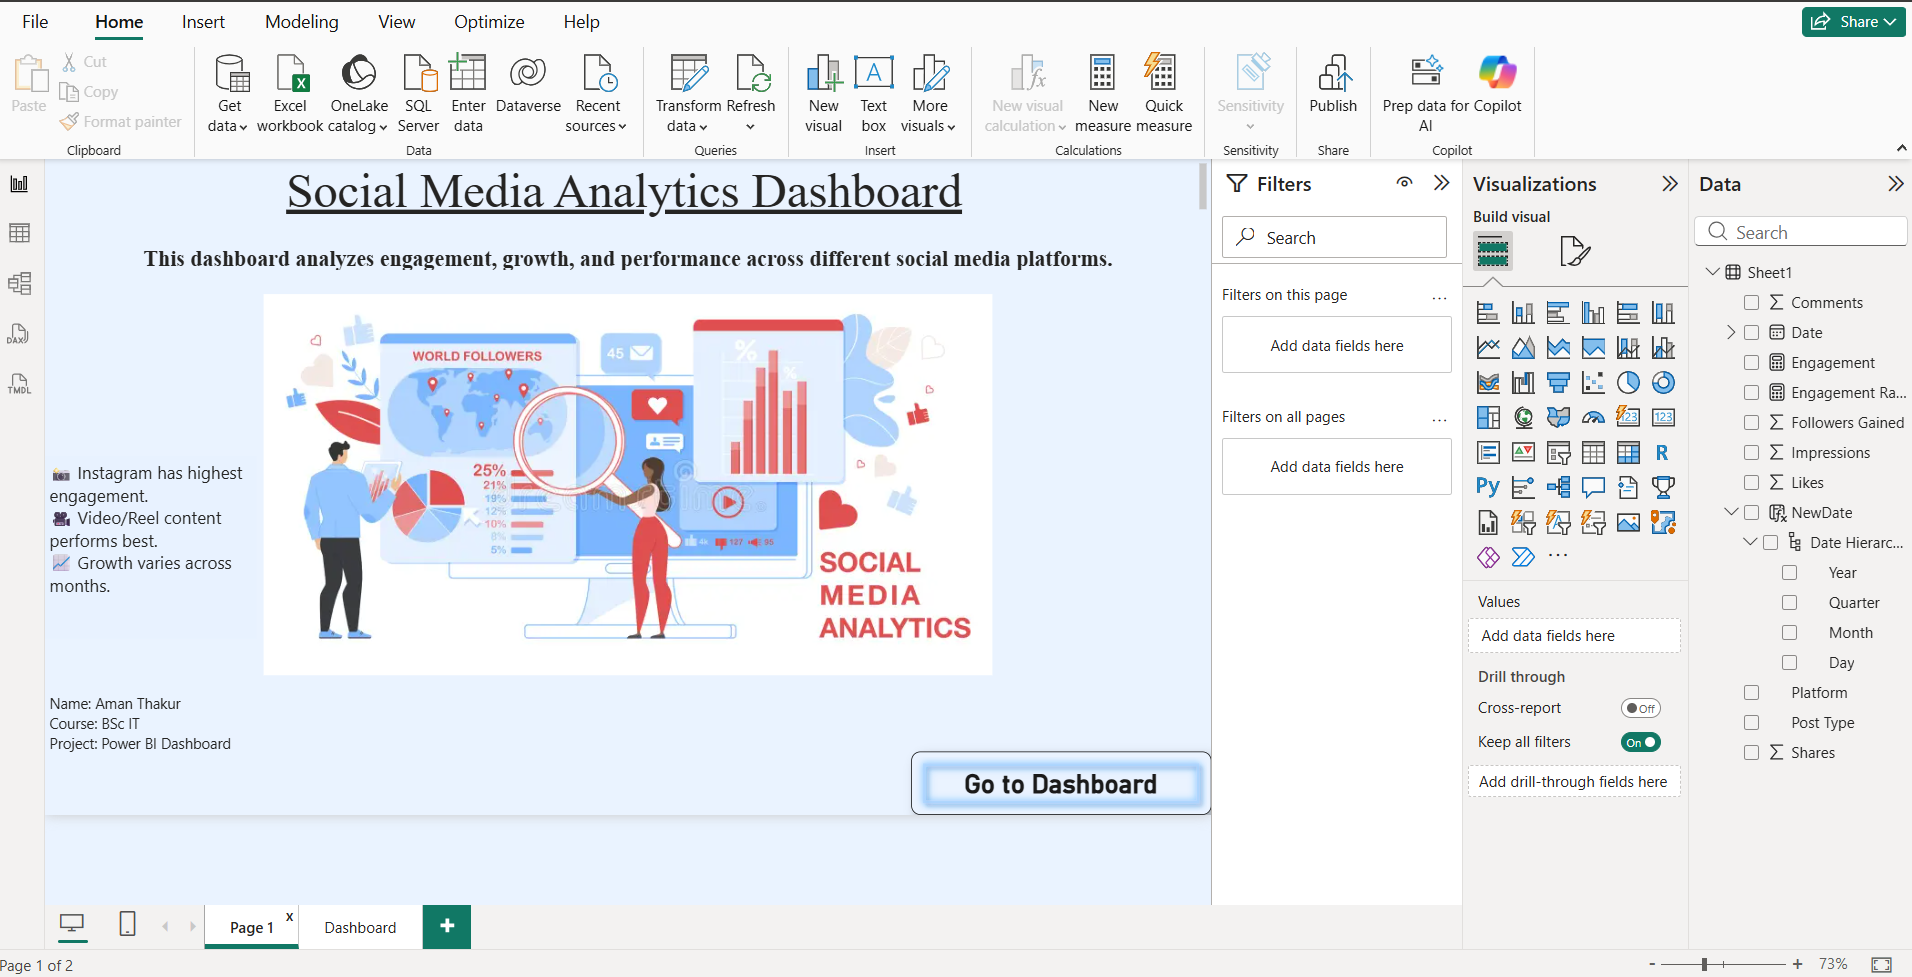

This screenshot's page, from the dashboard's own definition file:
{"tool":"powerbi","page":{"name":"Page 1","canvas":[1280,720],"ordinal":0},"visuals":[{"type":"textbox","box":[0,0,1280.3,72.7],"z":0},{"type":"textbox","box":[0,90.6,1280.3,53.5],"z":1000},{"type":"textbox","box":[0,581.8,231.9,138.6],"z":2000},{"type":"actionButton","box":[950.9,650.4,329.3,70],"z":3000},{"type":"textbox","box":[0,326.6,231.9,200.3],"z":4000}]}

Visuals, with their boxes on the page's 1280x720 design canvas (x1, y1, x2, y2). These are canvas units, not pixel positions in the 1912x977 screenshot, which may show the page scaled, cropped or inside an application window:
textbox: [left=0, top=0, right=1280, bottom=73]
textbox: [left=0, top=91, right=1280, bottom=144]
textbox: [left=0, top=582, right=232, bottom=720]
actionButton: [left=951, top=650, right=1280, bottom=720]
textbox: [left=0, top=327, right=232, bottom=527]
